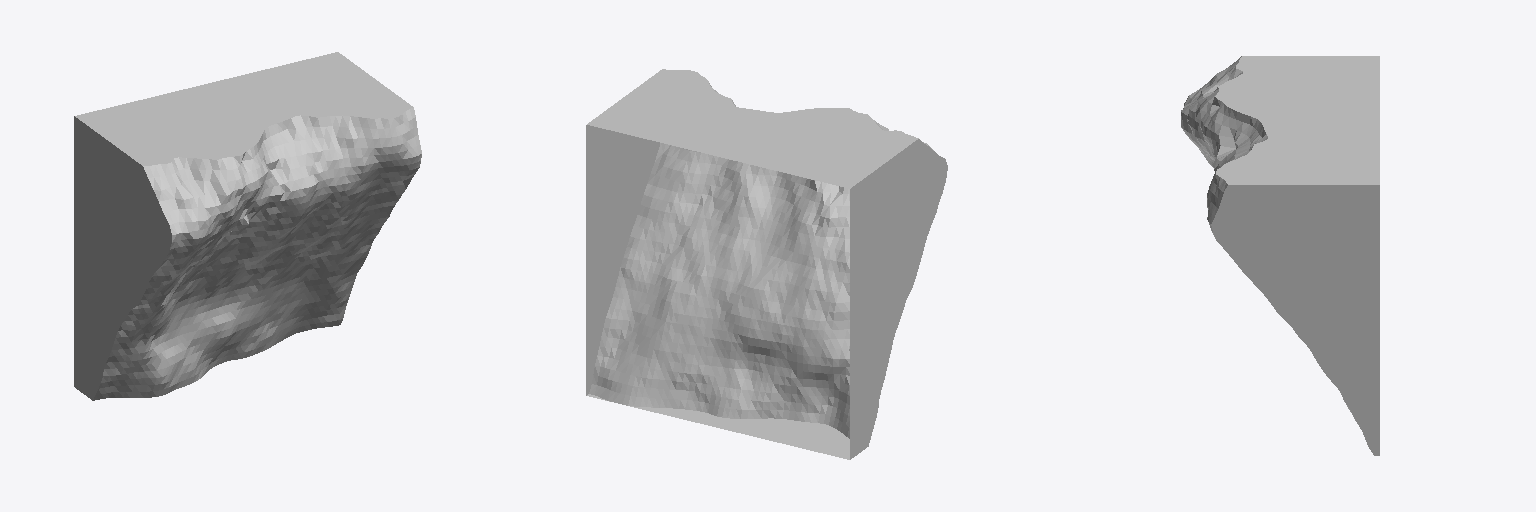
Rendered from scene_generated.obj.
3 renders of one model, left to right at view 1: azimuth 30°, elevation 25°; view 2: azimuth 150°, elevation 25°; view 3: azimuth 270°, elevation 25°, orthographic.
Parts seen in each view (by area): view 1: Terrain; view 2: Terrain; view 3: Terrain.
Part boxes in pixels (x1,y1,x2,y2): Terrain: (74, 52, 421, 400); Terrain: (586, 69, 947, 459); Terrain: (1181, 56, 1379, 455).
Size of the model in its own units: 1069 by 1051 by 699.